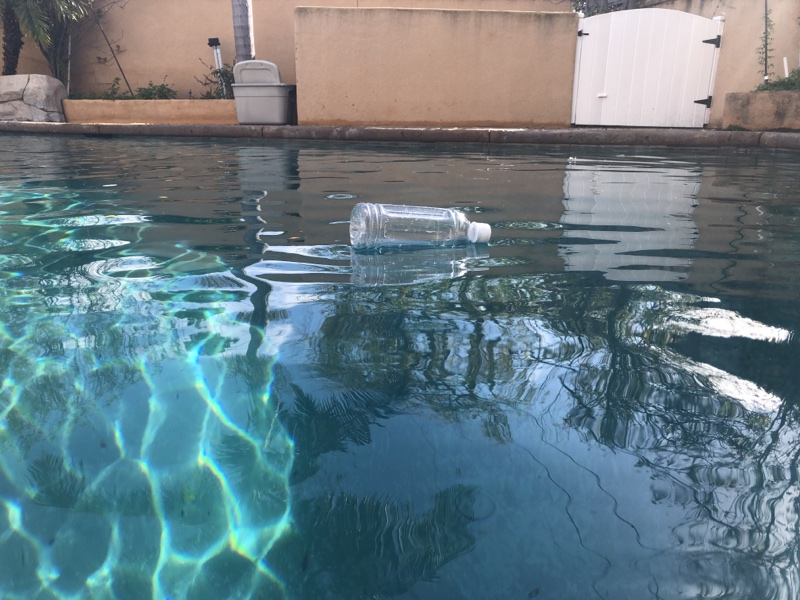Plastic Bottle: (344, 202, 493, 255)
